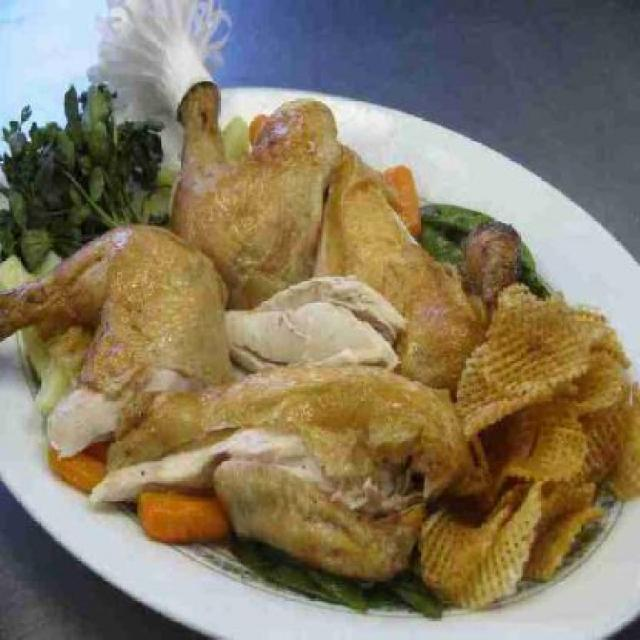Chicken roast: (181, 48, 505, 448), (122, 381, 466, 585), (22, 242, 226, 430)
